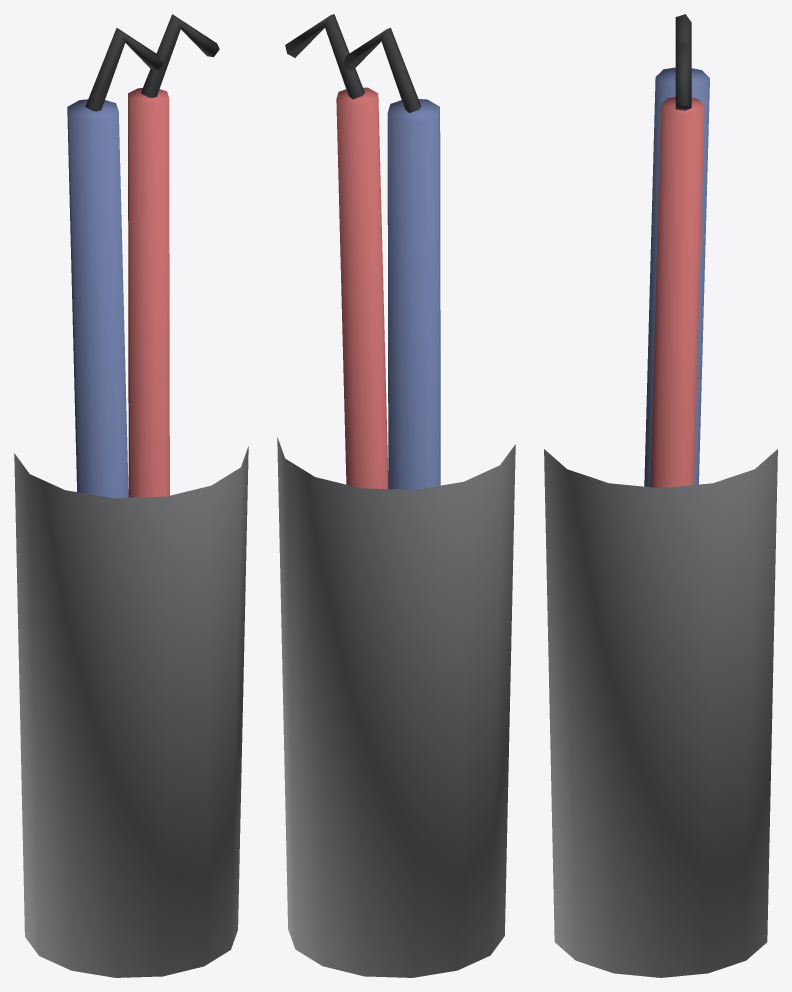
Rendered from umbrella_stand.glb.
3 renders of one model, left to right at view 1: azimuth 30°, elevation 25°; view 2: azimuth 150°, elevation 25°; view 3: azimuth 270°, elevation 25°, orthographic. The views are drawn at different scales.
Parts seen in each view (by area): view 1: umbrella_stand; view 2: umbrella_stand; view 3: umbrella_stand.
Part boxes in pixels (left/top/right/bottom): umbrella_stand: left=14, top=14, right=248, bottom=977; umbrella_stand: left=277, top=14, right=515, bottom=977; umbrella_stand: left=544, top=14, right=777, bottom=977.
Bounding box in the file's own units: 0.22 × 0.927 × 0.2145.
